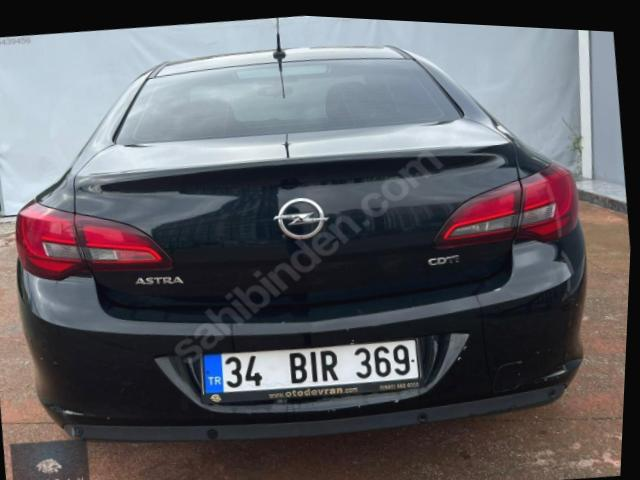plaka: (200, 339, 420, 401)
